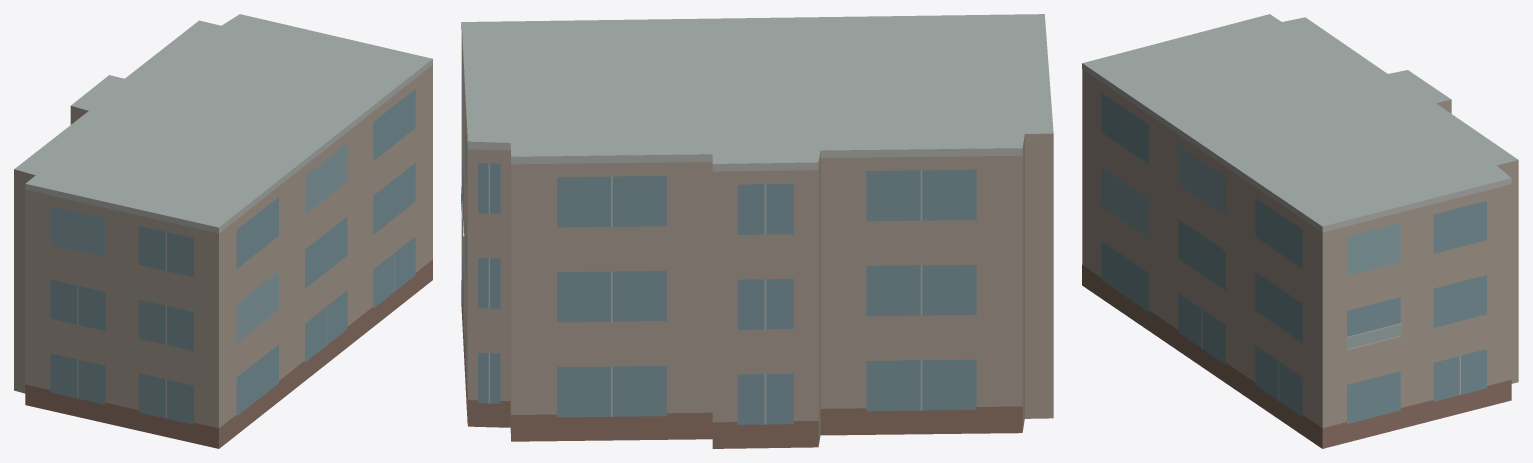
File: survey-upis-32965139.glb
The picture shows the model from 3 angles, left to right: view 1: azimuth 30°, elevation 25°; view 2: azimuth 150°, elevation 25°; view 3: azimuth 270°, elevation 25°; orthographic projection. The views are drawn at different scales.
Visible parts, largest first — view 1: survey-upis-32965139.tmp; view 2: survey-upis-32965139.tmp; view 3: survey-upis-32965139.tmp.
Part boxes in pixels (x1,y1,x2,y2): survey-upis-32965139.tmp: (14,14,432,448); survey-upis-32965139.tmp: (461,14,1053,448); survey-upis-32965139.tmp: (1082,14,1518,448).
Size of the model in its own units: 18.78 by 9.15 by 16.29.
